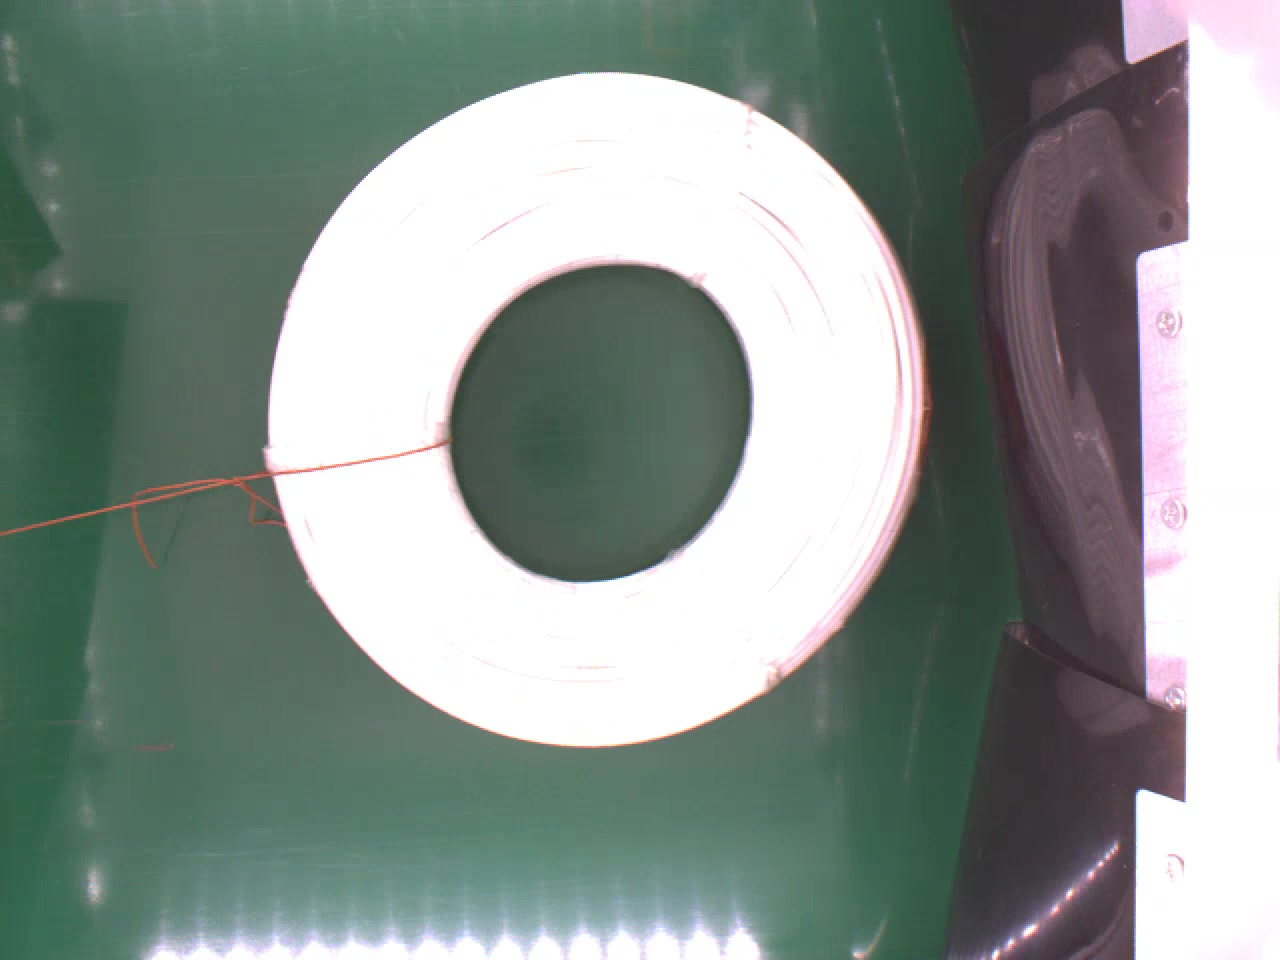white: (252, 64, 949, 748)
